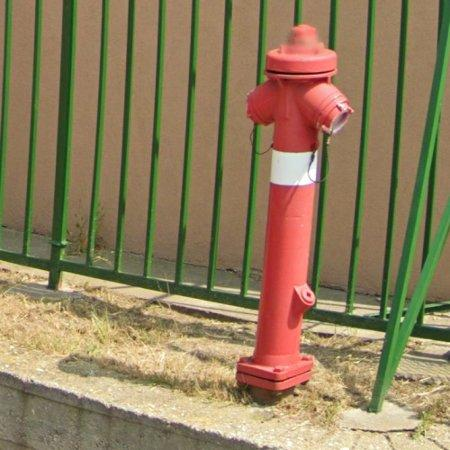a fire hydrant: (237, 24, 354, 395)
